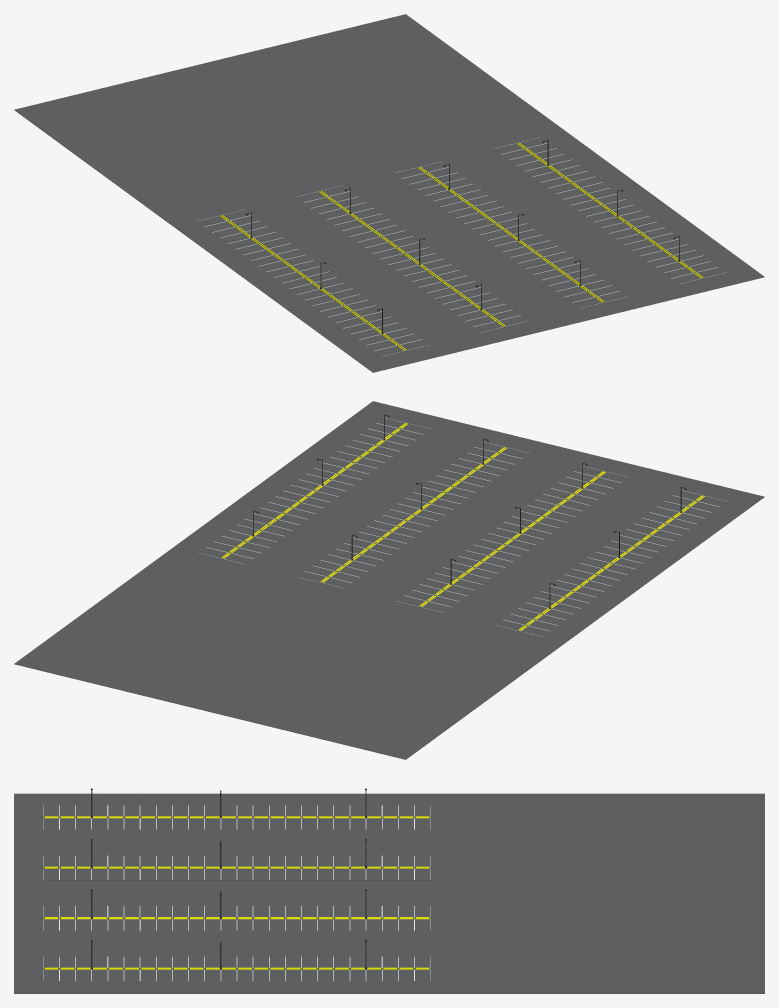
Rendered from parkinglot.fbx.
3 renders of one model, top to bottom at view 1: azimuth 30°, elevation 25°; view 2: azimuth 150°, elevation 25°; view 3: azimuth 270°, elevation 25°, orthographic. The views are drawn at different scales.
Visible parts, largest first — view 1: polySurface9; view 2: polySurface9; view 3: polySurface9.
Part boxes in pixels (x1,y1,x2,y2): polySurface9: (14,14,764,372); polySurface9: (14,401,764,759); polySurface9: (14,788,764,993).
Bounding box in the file's own units: 229 × 14.45 × 363.
5 materials, 2 textured.
